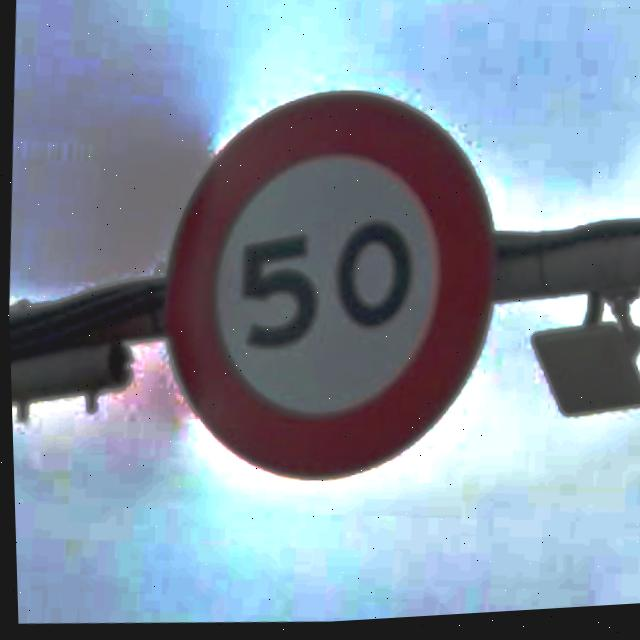max50: (146, 75, 508, 499)
